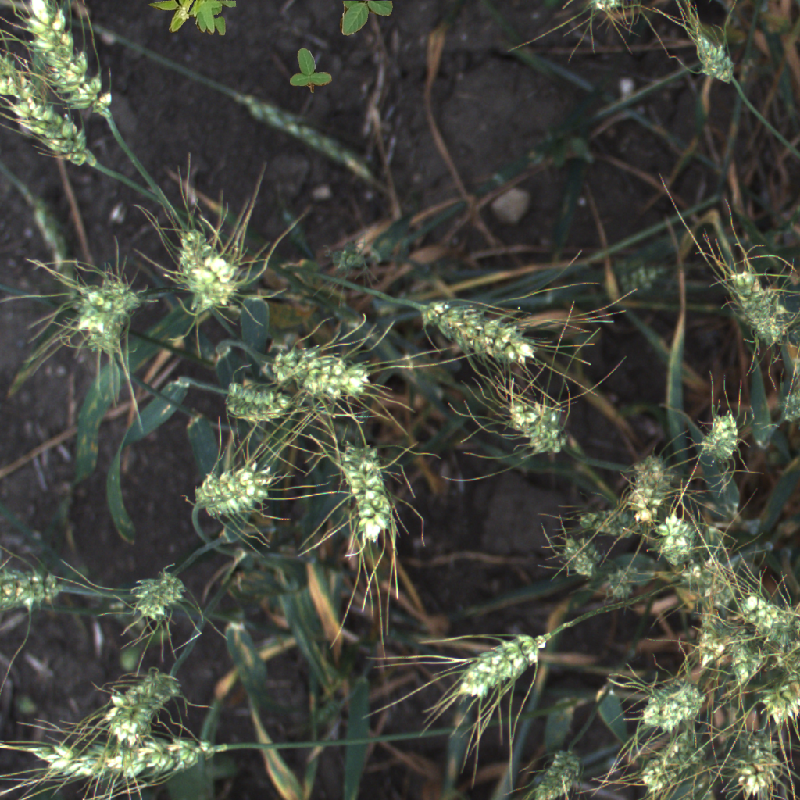spikelet: (12, 1, 120, 127), (1, 56, 100, 175), (59, 260, 150, 353), (37, 739, 225, 778), (425, 300, 535, 366), (335, 442, 398, 546), (453, 631, 546, 700), (171, 224, 237, 307), (269, 348, 371, 401), (110, 670, 179, 743), (686, 400, 756, 471), (193, 454, 270, 516), (728, 270, 786, 344), (503, 391, 570, 454), (639, 732, 703, 792), (728, 726, 778, 796), (639, 676, 703, 730), (1, 565, 75, 611), (128, 566, 186, 622), (629, 450, 671, 523), (222, 377, 289, 422), (736, 593, 798, 641), (532, 747, 582, 796), (692, 29, 735, 85), (652, 511, 697, 564), (760, 671, 800, 730), (766, 600, 798, 671), (730, 635, 766, 689), (574, 507, 630, 539), (560, 534, 603, 575), (609, 264, 665, 295), (693, 610, 722, 660), (689, 565, 726, 603), (325, 242, 368, 269), (605, 561, 634, 598)
weed: (141, 1, 238, 51), (290, 48, 332, 93), (339, 1, 393, 36)
